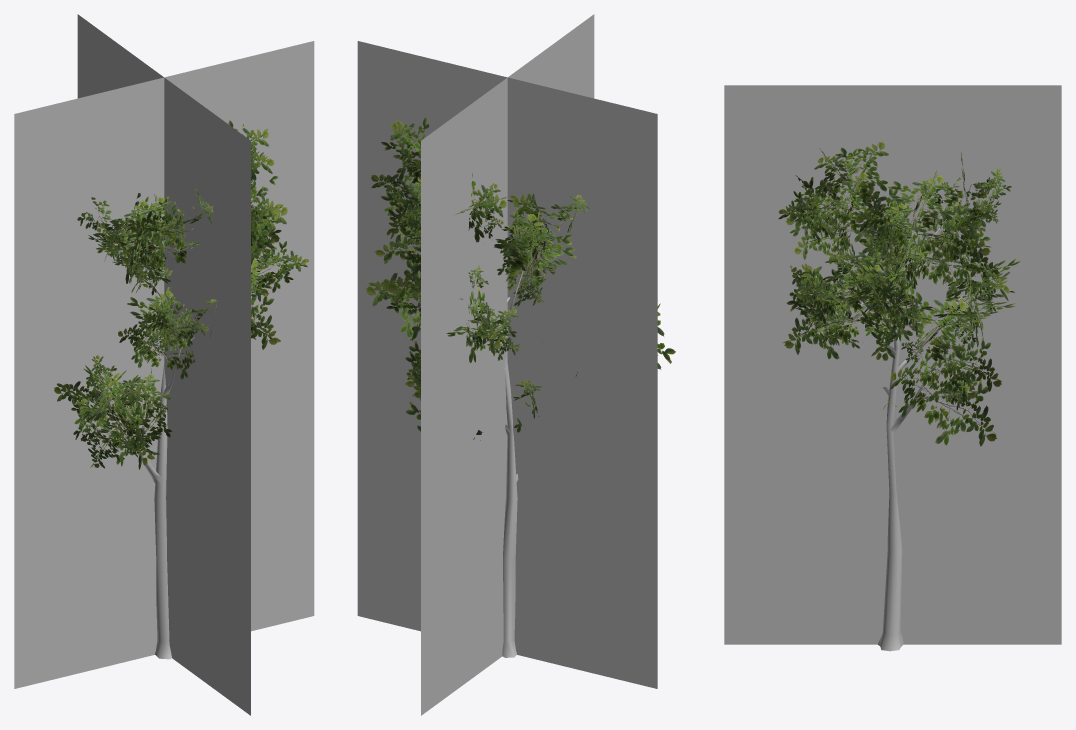
The model's file is Tree-Beech1A-mobile.fbx.
The picture shows the model from 3 angles, left to right: view 1: azimuth 30°, elevation 25°; view 2: azimuth 150°, elevation 25°; view 3: azimuth 270°, elevation 25°; orthographic projection. The views are drawn at different scales.
Visible parts, largest first — view 1: Billboard-BeechA, Tree-Beech1A-mobile_LOD0; view 2: Billboard-BeechA, Tree-Beech1A-mobile_LOD0; view 3: Billboard-BeechA, Tree-Beech1A-mobile_LOD0.
Boxes of the visible parts, left/top/right/bottom form: Billboard-BeechA: left=14, top=14, right=314, bottom=715; Tree-Beech1A-mobile_LOD0: left=54, top=120, right=308, bottom=659; Billboard-BeechA: left=357, top=14, right=657, bottom=715; Tree-Beech1A-mobile_LOD0: left=365, top=117, right=675, bottom=657; Billboard-BeechA: left=724, top=85, right=1061, bottom=644; Tree-Beech1A-mobile_LOD0: left=778, top=141, right=1020, bottom=651.
Size of what is drawn, in the model's own units: 1292 by 2365 by 1292.
